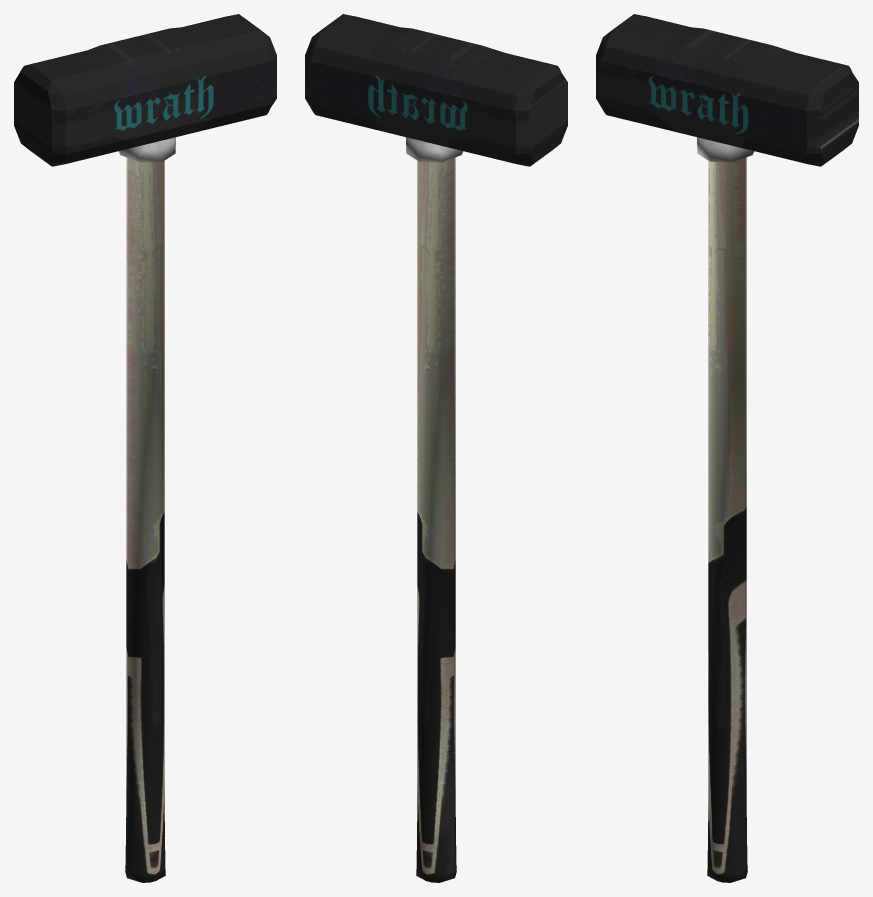
File: BigHammer.glb
3 views of the same model, side by side, from view 1: azimuth 30°, elevation 25°; view 2: azimuth 150°, elevation 25°; view 3: azimuth 330°, elevation 25° (orthographic).
Visible parts, largest first — view 1: sledge -conv_no_wrap; view 2: sledge -conv_no_wrap; view 3: sledge -conv_no_wrap.
Boxes of the visible parts, x1,y1,x2,y2 form: sledge -conv_no_wrap: [14, 14, 276, 882]; sledge -conv_no_wrap: [305, 14, 567, 882]; sledge -conv_no_wrap: [596, 14, 858, 882].
Bounding box in the file's own units: 5.47 × 19.36 × 2.
Materials: 1 (1 with a texture image).
